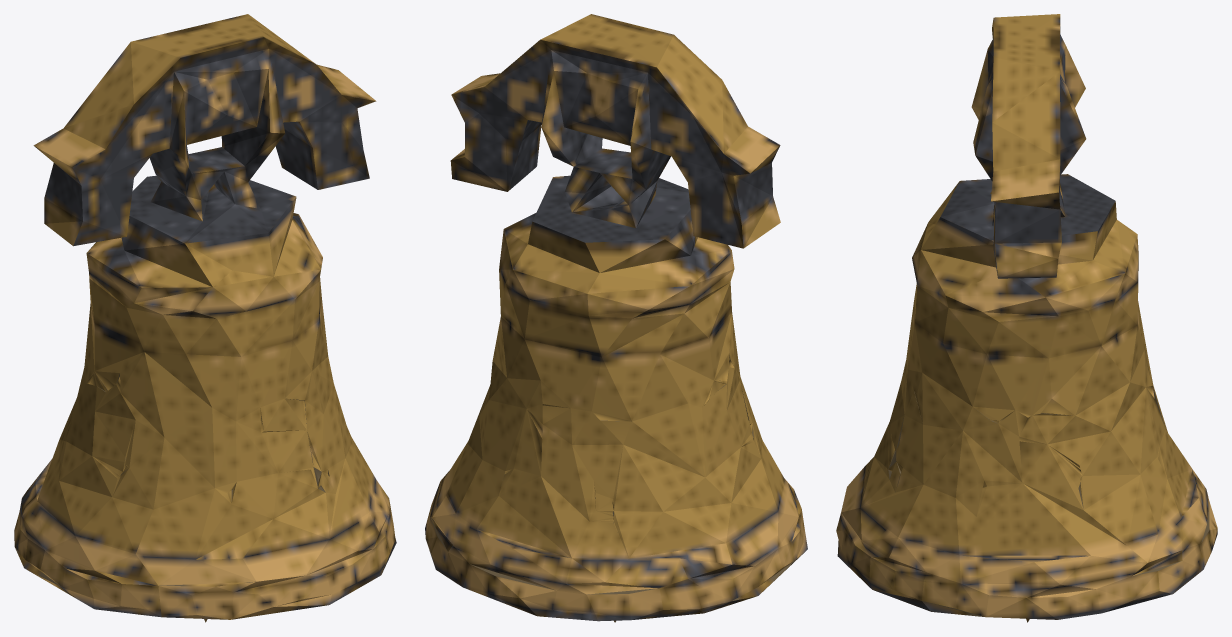
The model's file is SM_MeshyBell.fbx.
3 views of the same model, side by side, from view 1: azimuth 30°, elevation 25°; view 2: azimuth 150°, elevation 25°; view 3: azimuth 270°, elevation 25° (orthographic).
Parts seen in each view (by area): view 1: SM_MeshyBell; view 2: SM_MeshyBell; view 3: SM_MeshyBell.
Boxes of the visible parts, x1,y1,x2,y2 form: SM_MeshyBell: [14, 14, 396, 622]; SM_MeshyBell: [425, 14, 807, 622]; SM_MeshyBell: [836, 14, 1217, 622].
Size of the model in its own units: 1.12 by 1.9 by 1.12.
1 material, 1 textured.
